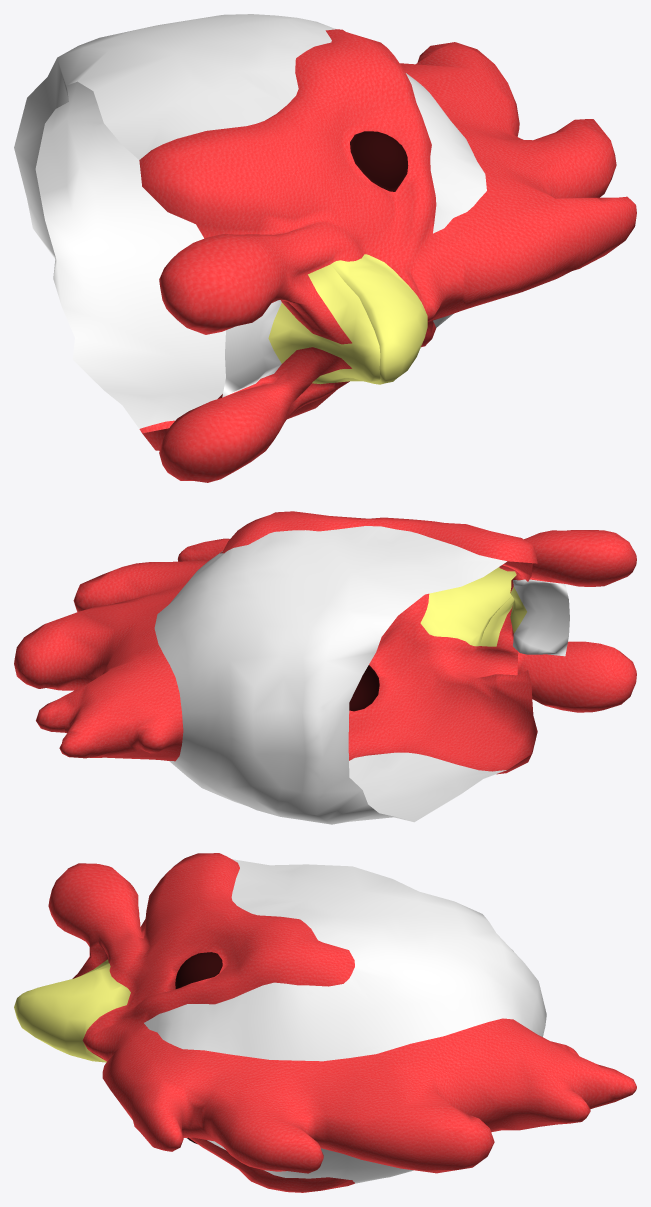
The model's file is RichardMaskFemale.fbx.
3 renders of one model, top to bottom at view 1: azimuth 30°, elevation 25°; view 2: azimuth 150°, elevation 25°; view 3: azimuth 270°, elevation 25°, orthographic. The views are drawn at different scales.
Visible parts, largest first — view 1: Richard_0.001; view 2: Richard_0.001; view 3: Richard_0.001.
Boxes of the visible parts, box(x1,y1,x2,y2) form: Richard_0.001: box(14, 14, 636, 482); Richard_0.001: box(14, 511, 636, 824); Richard_0.001: box(14, 853, 636, 1192).
Bounding box in the file's own units: 0.2236 × 0.1189 × 0.2651.
